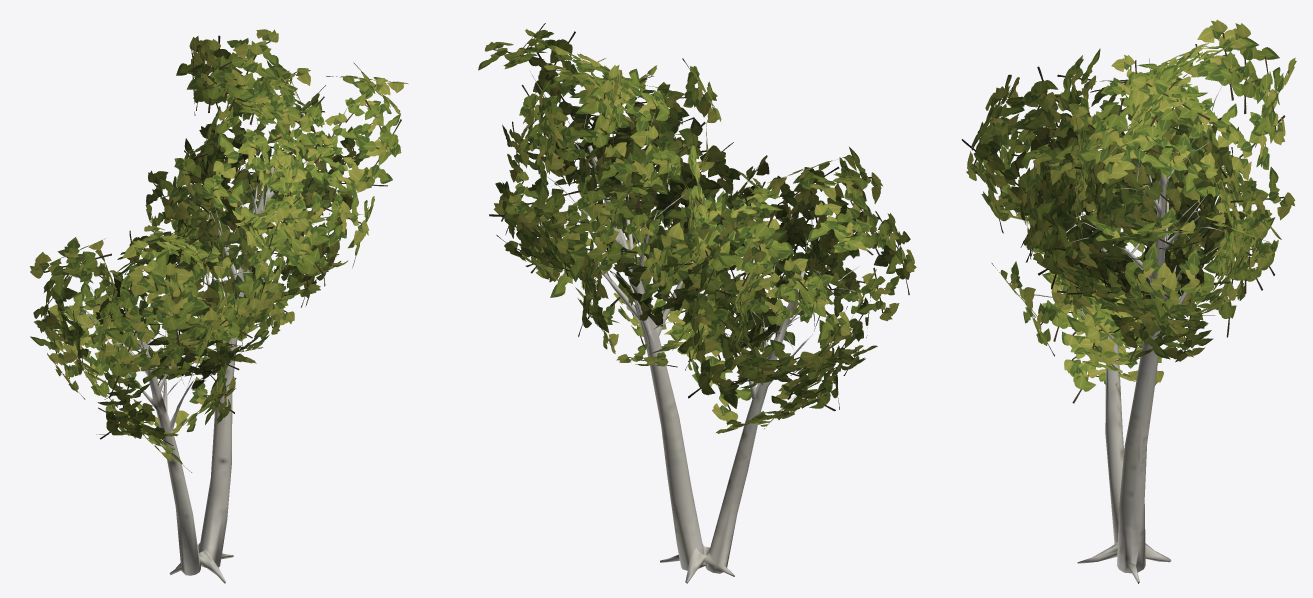
The model's file is tree_birch_lod1.glb.
The picture shows the model from 3 angles, left to right: view 1: azimuth 30°, elevation 25°; view 2: azimuth 150°, elevation 25°; view 3: azimuth 270°, elevation 25°; orthographic projection. The views are drawn at different scales.
Visible parts, largest first — view 1: tree_birch_lod1; view 2: tree_birch_lod1; view 3: tree_birch_lod1.
Part boxes in pixels (x1,y1,x2,y2): tree_birch_lod1: (30, 29, 408, 583); tree_birch_lod1: (478, 23, 916, 583); tree_birch_lod1: (962, 19, 1296, 583).
Bounding box in the file's own units: 6.19 × 7.49 × 4.02.
2 materials, 2 textured.
